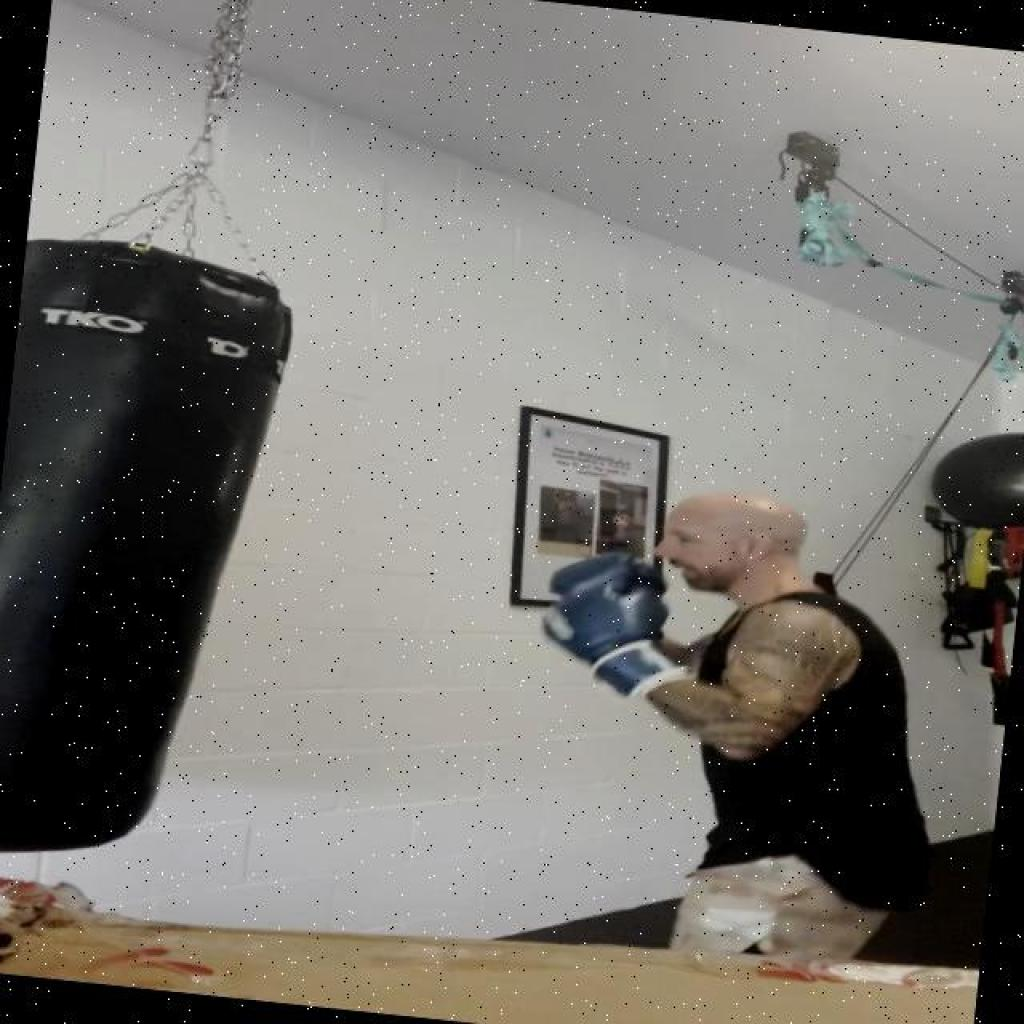bag: (0, 224, 301, 877)
